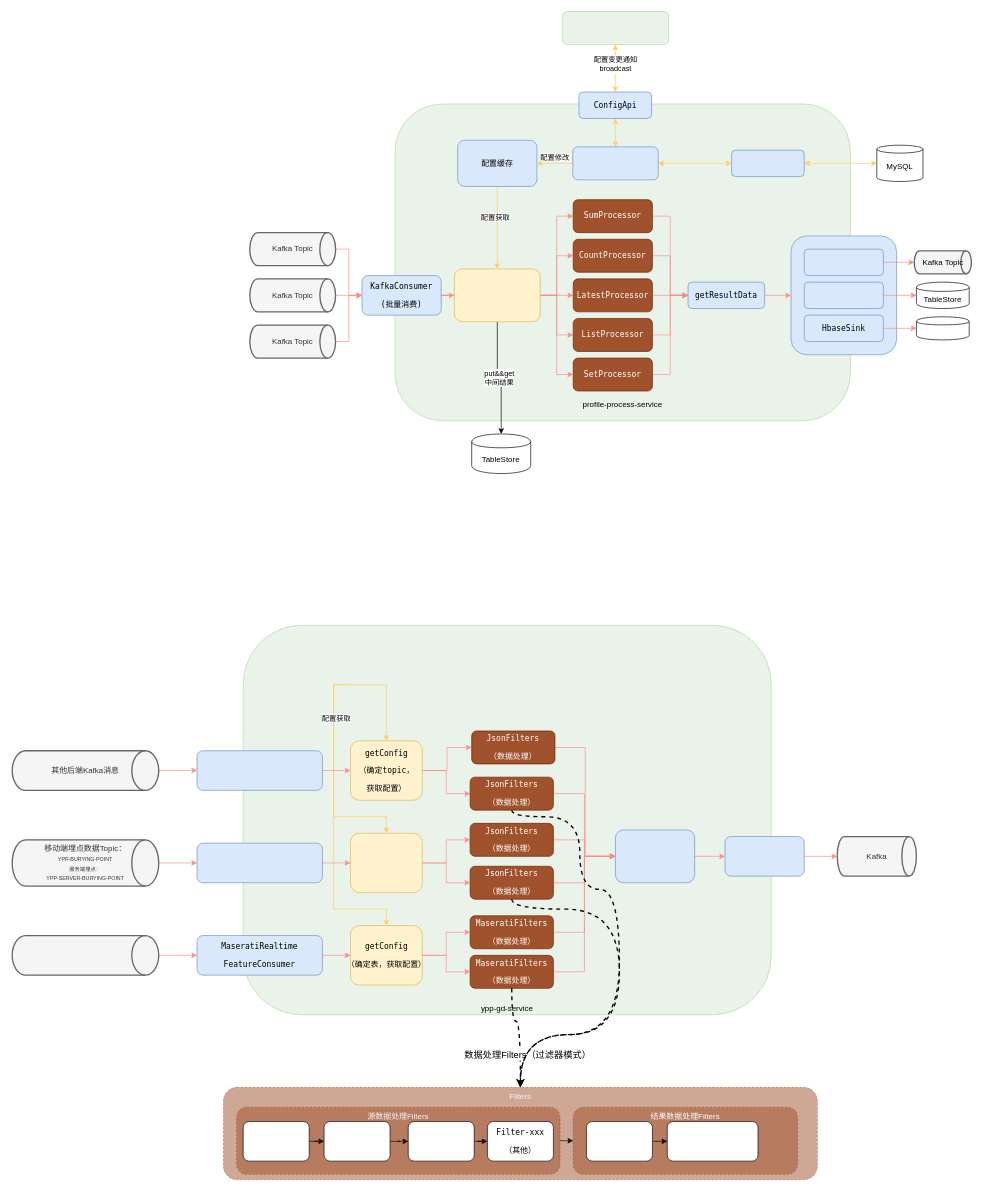
This 983x1191 diagram has some shape labels left out. Each missing label, with the centre of its shape:
"BuryingPointConsumer" belongs at (259,862).
"ConfigService" belongs at (615,163).
"CopyFilter" belongs at (619,1141).
"DataDriver" belongs at (767,163).
"Filter01 （如数据过滤）" belongs at (276,1141).
"Filter02 （如数据转换）" belongs at (356,1141).
"Filter03 （如数据填充）" belongs at (441,1141).
"getConfig （确定具体埋点， 获取配置）" belongs at (386,863).
"getResultData (根据配置生成 两种数据结构)" belongs at (655,856).
"Hbase" belongs at (942,328).
"JsonConsumer" belongs at (259,770).
"KafkaProducer" belongs at (764,856).
"KafkaSink" belongs at (843,262).
"Maserati数据Topic： maserati_xxxx" belongs at (85,955).
"profile-manage-service" belongs at (615,28).
"put&&get (批量存/取 中间结果)" belongs at (497,295).
"TableSink" belongs at (843,295).
"TypeConvertFilter" belongs at (712,1141).
